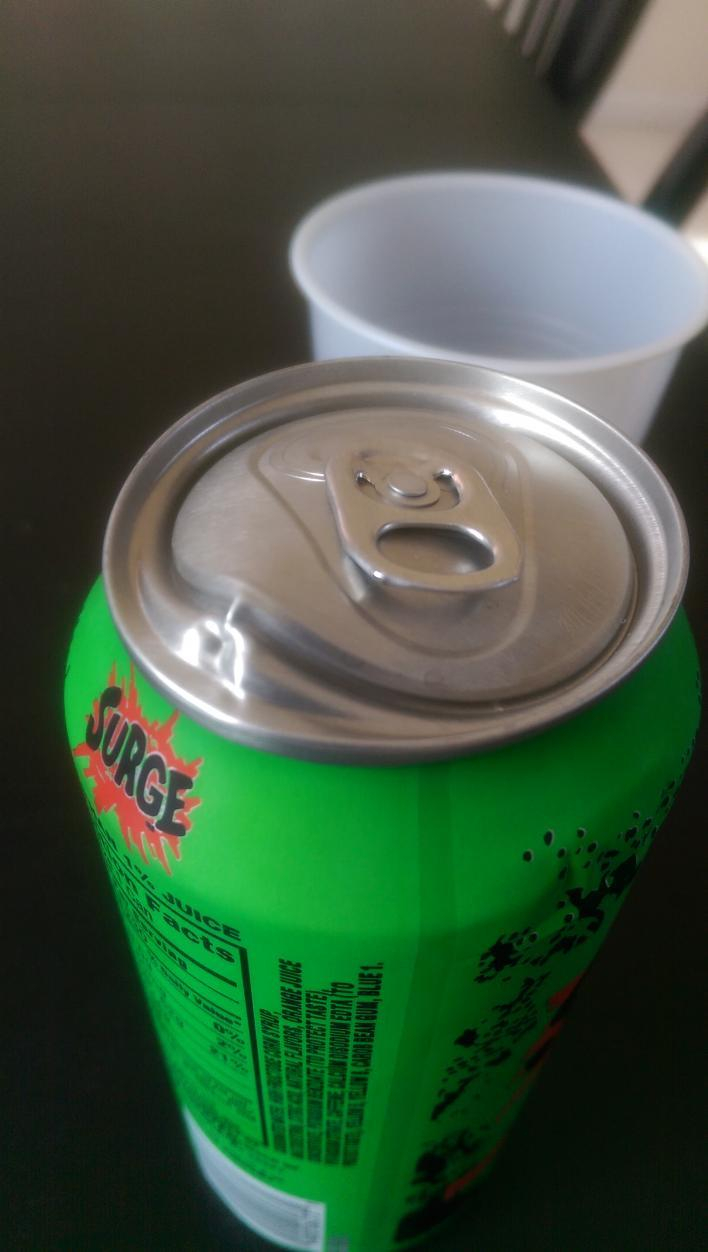metal: (64, 358, 700, 1252)
